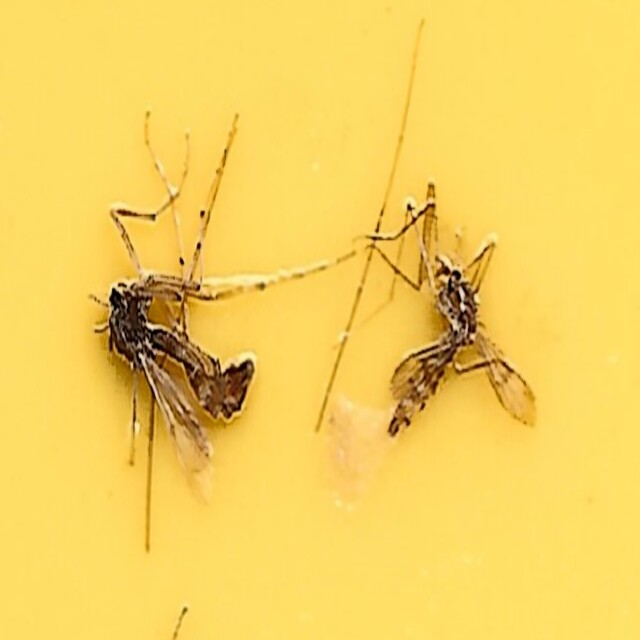Nematocera: (387, 172, 543, 468), (97, 256, 260, 462)
